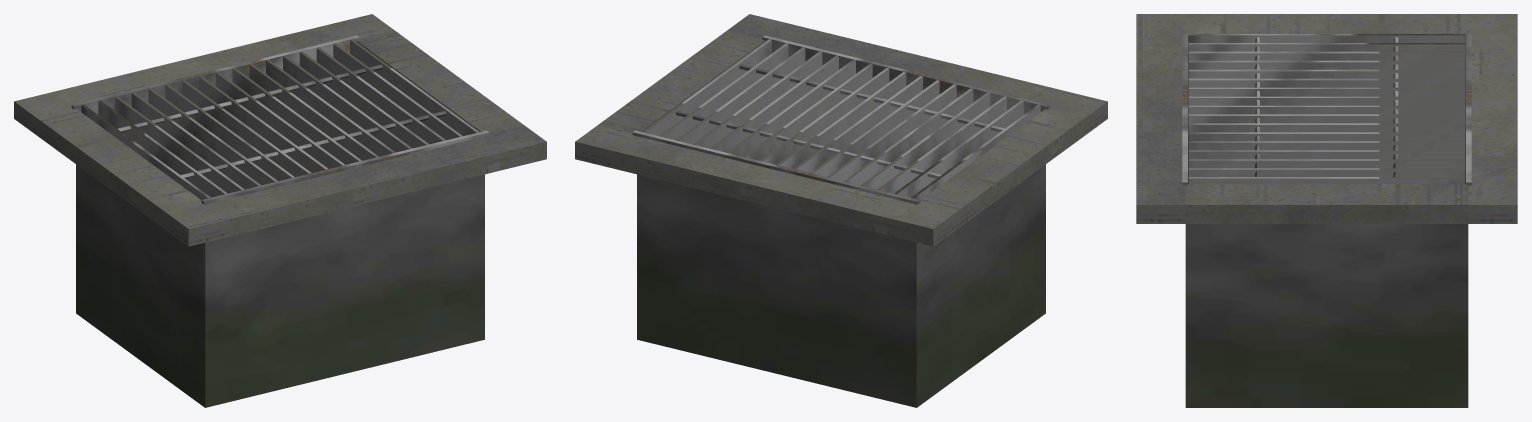
The model's file is street-gully-grate.fbx.
3 views of the same model, side by side, from view 1: azimuth 30°, elevation 25°; view 2: azimuth 150°, elevation 25°; view 3: azimuth 270°, elevation 25° (orthographic). The views are drawn at different scales.
Parts seen in each view (by area): view 1: gutter_grate; view 2: gutter_grate; view 3: gutter_grate.
Part boxes in pixels (left/top/right/bottom): gutter_grate: left=14, top=14, right=546, bottom=407; gutter_grate: left=575, top=14, right=1107, bottom=407; gutter_grate: left=1136, top=14, right=1517, bottom=407.
Size of the model in its own units: 64 by 35.5 by 54.
Materials: 1 (1 with a texture image).
